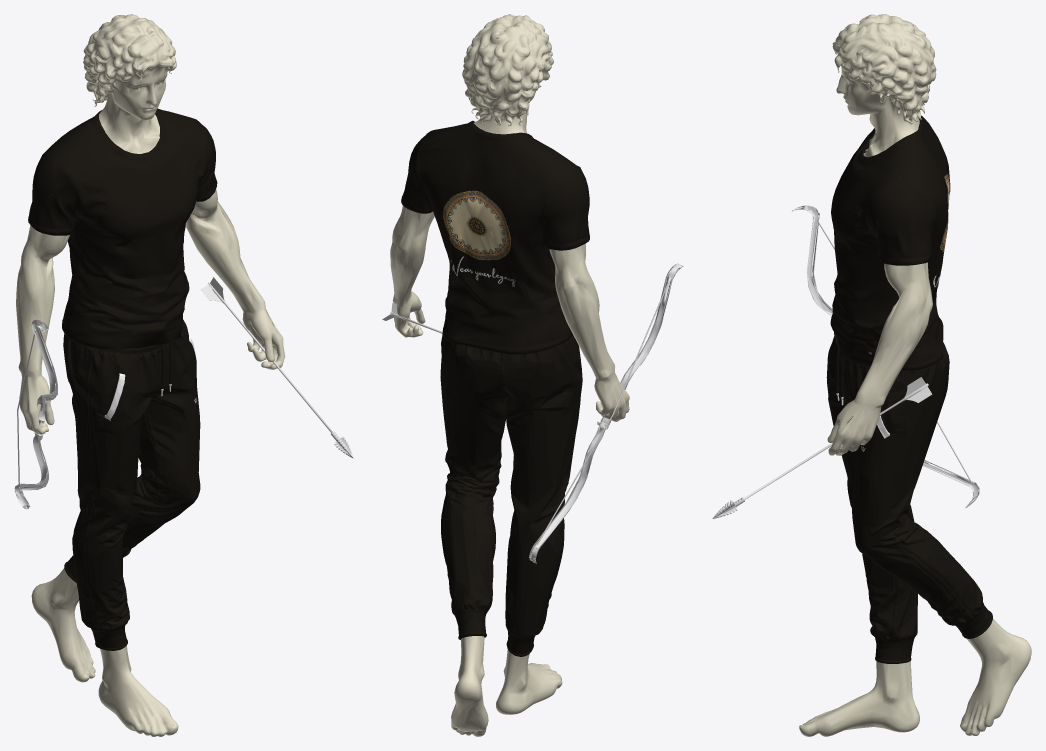
Rendered from wear-your-legacy.glb.
3 renders of one model, left to right at view 1: azimuth 30°, elevation 25°; view 2: azimuth 150°, elevation 25°; view 3: azimuth 270°, elevation 25°, orthographic. The views are drawn at different scales.
Visible parts, largest first — view 1: Trouser, Body, T-Shirt, Cylinder, T-Shirt.003, T-Shirt.001, Arrow; view 2: Trouser, T-Shirt.003, Body, Cylinder, T-Shirt.001, T-Shirt, T-Shirt.002; view 3: Body, Trouser, T-Shirt, T-Shirt.003, T-Shirt.002, Cylinder, Arrow.
Part boxes in pixels (x1=…): Trouser: x1=63, y1=320, x2=200, y2=650; Body: x1=16, y1=14, x2=285, y2=736; T-Shirt: x1=38, y1=110, x2=215, y2=349; Cylinder: x1=14, y1=319, x2=57, y2=509; T-Shirt.003: x1=33, y1=108, x2=198, y2=333; T-Shirt.001: x1=28, y1=179, x2=66, y2=235; Arrow: x1=200, y1=277, x2=353, y2=458; Trouser: x1=440, y1=334, x2=582, y2=656; T-Shirt.003: x1=409, y1=120, x2=585, y2=354; Body: x1=390, y1=14, x2=629, y2=736; Cylinder: x1=529, y1=263, x2=683, y2=563; T-Shirt.001: x1=550, y1=191, x2=589, y2=250; T-Shirt: x1=430, y1=121, x2=588, y2=343; T-Shirt.002: x1=401, y1=163, x2=423, y2=213; Body: x1=799, y1=14, x2=1031, y2=736; Trouser: x1=826, y1=336, x2=992, y2=663; T-Shirt: x1=830, y1=128, x2=906, y2=370; T-Shirt.003: x1=891, y1=115, x2=950, y2=370; T-Shirt.002: x1=868, y1=216, x2=936, y2=265; Cylinder: x1=792, y1=205, x2=979, y2=508; Arrow: x1=712, y1=377, x2=932, y2=518.
Size of the model in its own units: 0.7091 by 1.71 by 0.6899.
8 materials, 6 textured.
